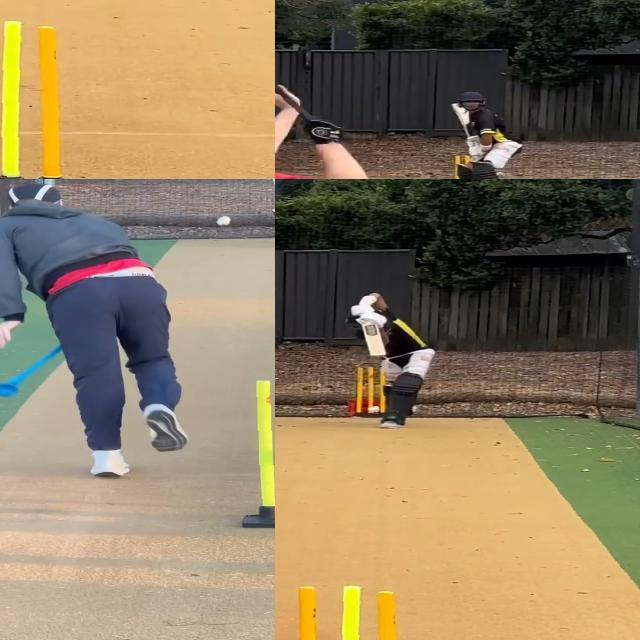Cricket ball: (214, 215, 234, 229), (366, 406, 381, 414)
Stumps: (0, 17, 72, 179), (276, 583, 414, 640), (243, 379, 275, 530)
